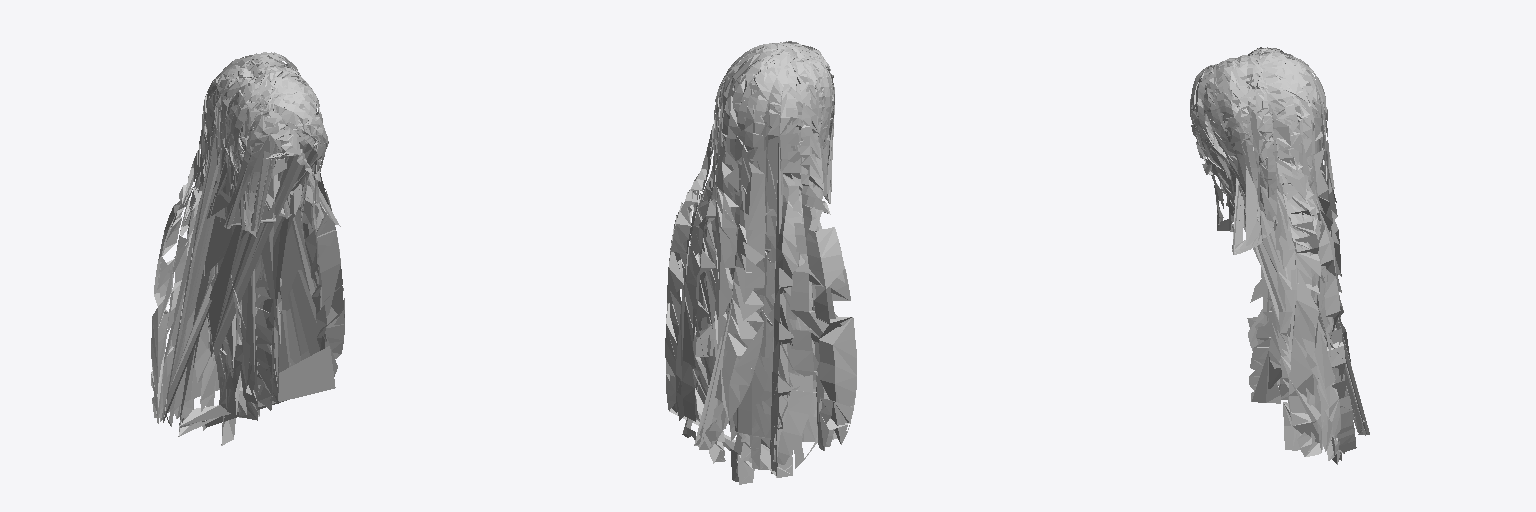
3 renders of one model, left to right at view 1: azimuth 30°, elevation 25°; view 2: azimuth 150°, elevation 25°; view 3: azimuth 270°, elevation 25°, orthographic.
Visible parts, largest first — view 1: Model001_27_+Head|HairLong.p2_0.2_0_0, Model001_24_body21nPart!_1_0_0, Model001_24_face_1_0_0, Model001_24_body1_1_0_0; view 2: Model001_27_+Head|HairLong.p2_0.2_0_0, Model001_24_body21nPart!_1_0_0; view 3: Model001_27_+Head|HairLong.p2_0.2_0_0, Model001_24_body21nPart!_1_0_0, Model001_24_face_1_0_0.
Part boxes in pixels (x1,y1,x2,y2): Model001_27_+Head|HairLong.p2_0.2_0_0: (151, 52, 344, 445); Model001_24_body21nPart!_1_0_0: (196, 63, 339, 419); Model001_24_face_1_0_0: (205, 61, 328, 415); Model001_24_body1_1_0_0: (204, 82, 328, 354); Model001_27_+Head|HairLong.p2_0.2_0_0: (665, 41, 856, 484); Model001_24_body21nPart!_1_0_0: (700, 42, 834, 302); Model001_27_+Head|HairLong.p2_0.2_0_0: (1190, 47, 1369, 464); Model001_24_body21nPart!_1_0_0: (1190, 55, 1317, 396); Model001_24_face_1_0_0: (1191, 58, 1309, 357).
Size of the model in its own units: 0.5469 by 1.15 by 0.4558.